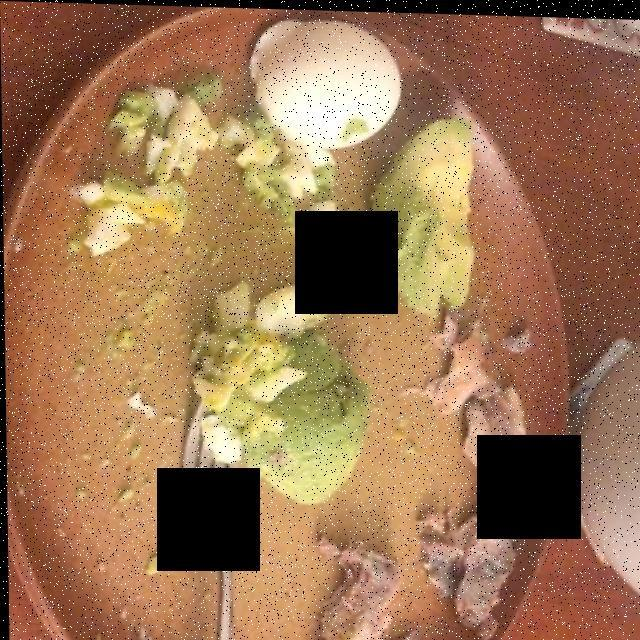avocado: (248, 125, 451, 496)
egg: (267, 22, 393, 143)
sausage: (441, 375, 531, 640)
